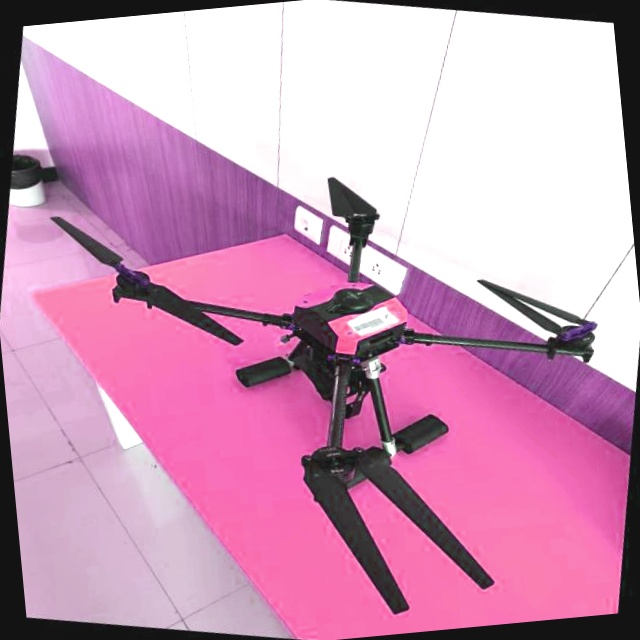quadcopter: (0, 96, 640, 640)
